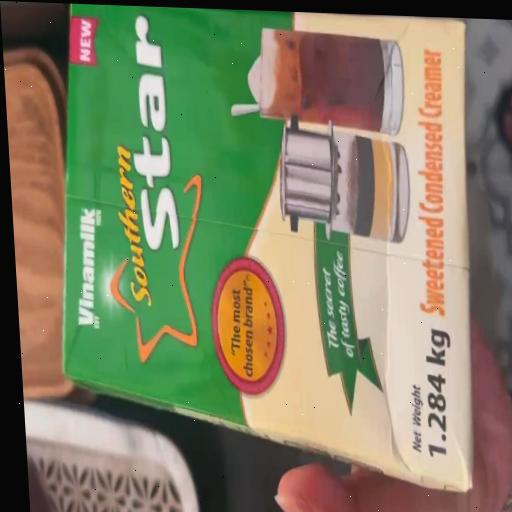ly_giay: (63, 3, 473, 489)
